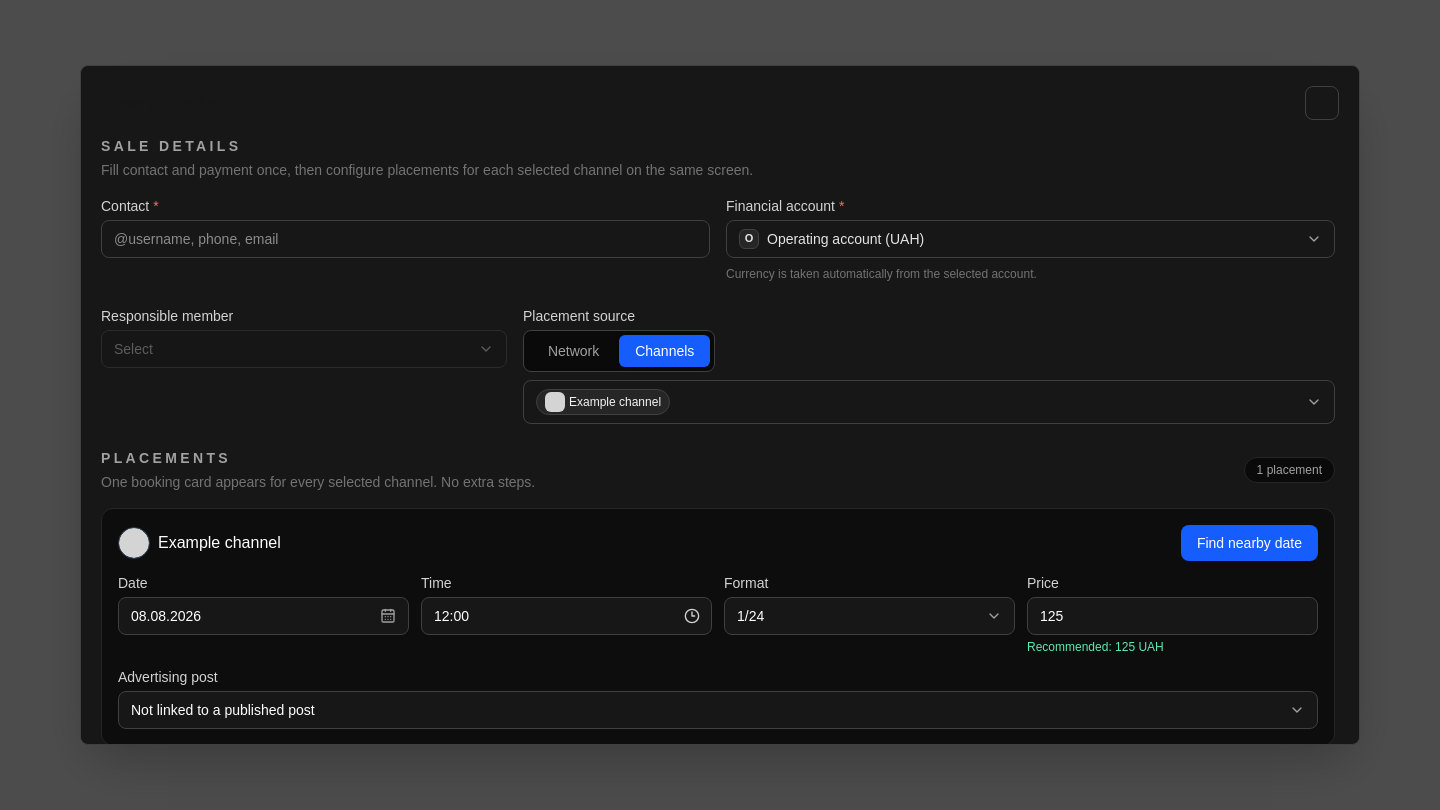
it: AdSaleModal › fills the calculated Setup price and refreshes it when the format changes
Expected: the field below "Price" holds "125", [1027,597,1318,635]
Click the button "1/24".
click(751, 616)  # box [724,597,1015,635]
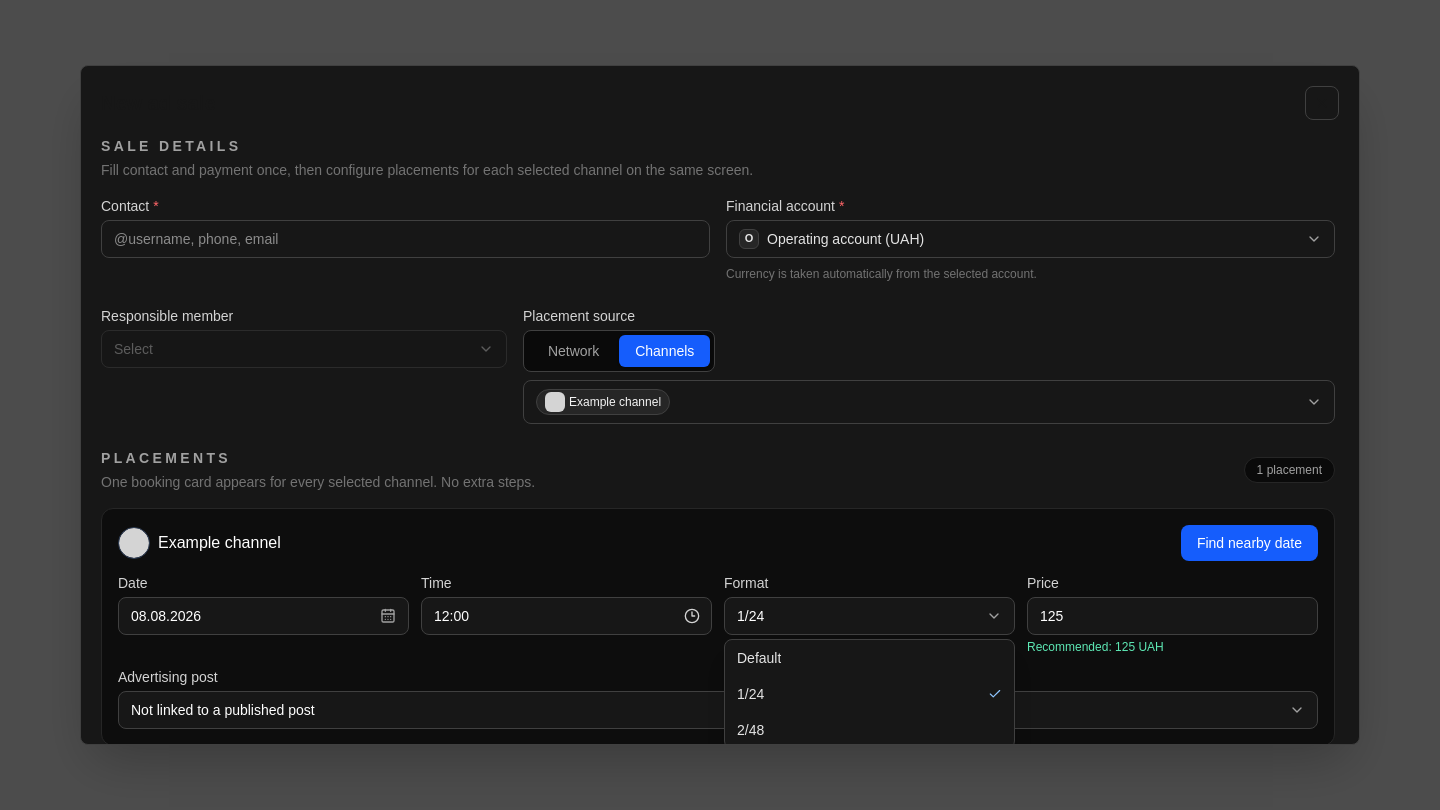
Click the button "2/48".
click(751, 730)  # box [725,712,1014,748]
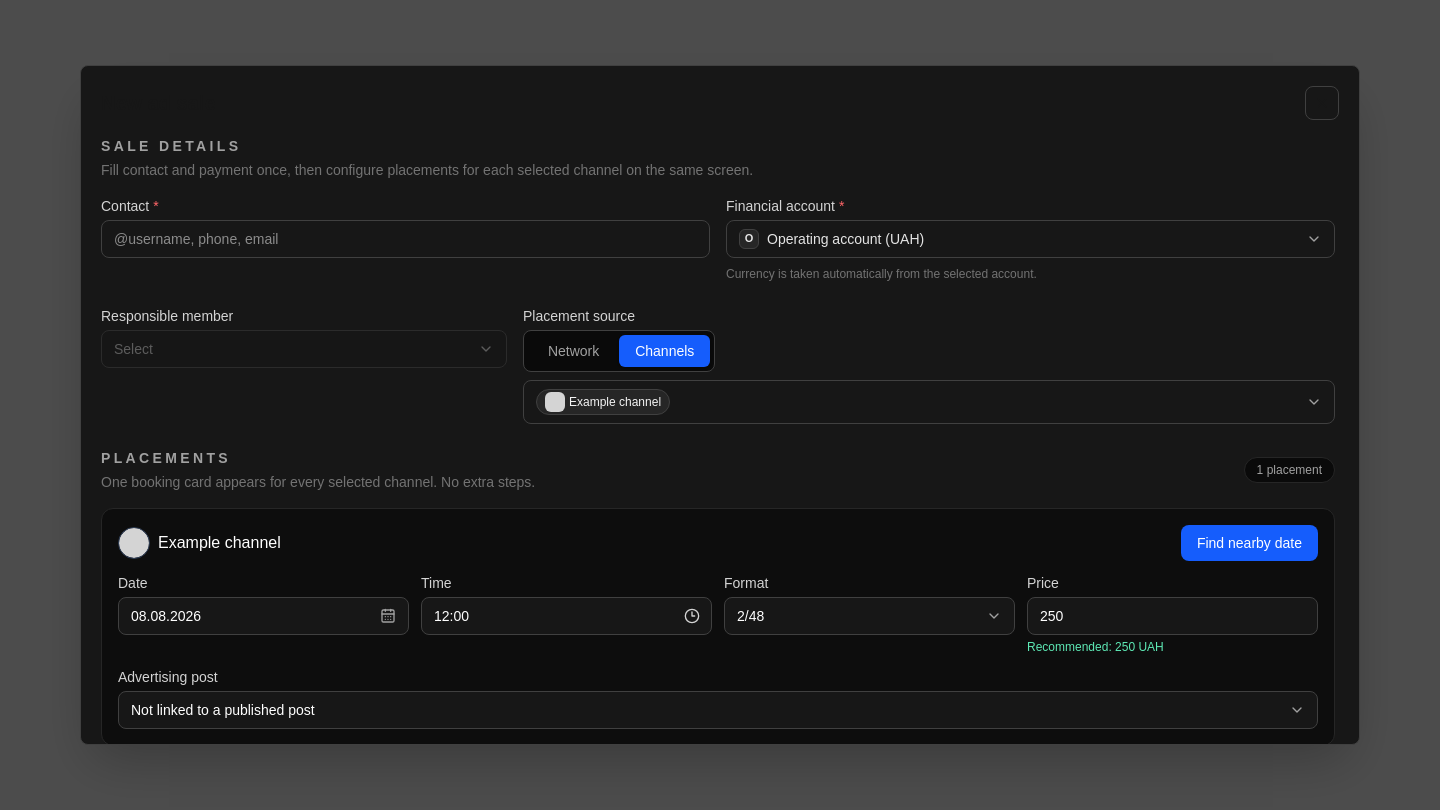
Expected: the field below "Price" holds "250", [1027,597,1318,635]
